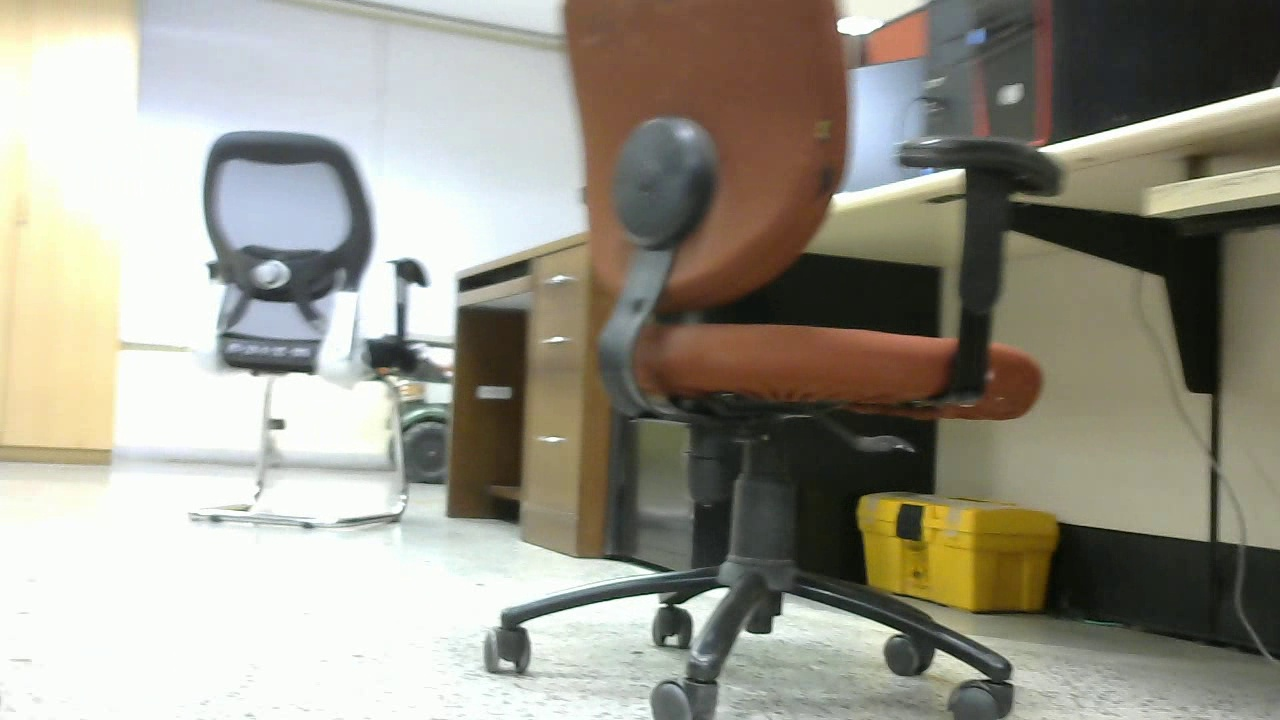chair: (477, 5, 1062, 720), (164, 123, 461, 562)
